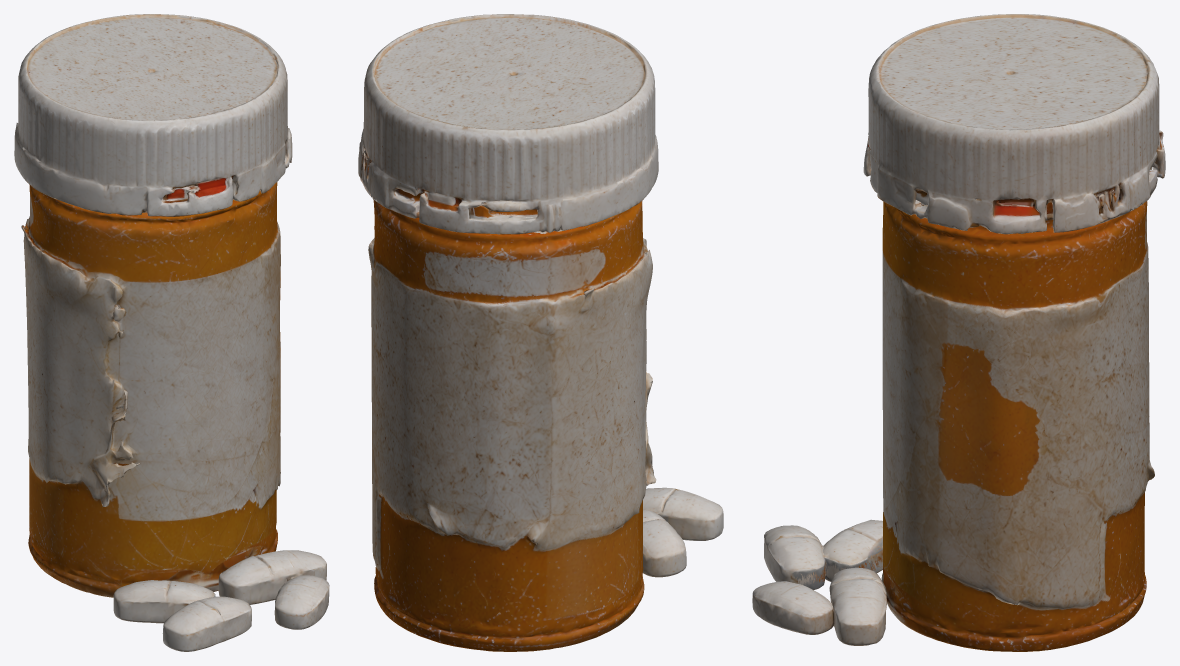
The model's file is PillBottle.fbx.
3 views of the same model, side by side, from view 1: azimuth 30°, elevation 25°; view 2: azimuth 150°, elevation 25°; view 3: azimuth 270°, elevation 25° (orthographic). The views are drawn at different scales.
Visible parts, largest first — view 1: texture_mapping; view 2: texture_mapping; view 3: texture_mapping.
Boxes of the visible parts, box(x1,y1,x2,y2) form: texture_mapping: box(14, 14, 329, 651); texture_mapping: box(358, 14, 723, 651); texture_mapping: box(752, 14, 1165, 651).
Bounding box in the file's own units: 0.5148 × 0.7121 × 1.
1 material, 1 textured.
